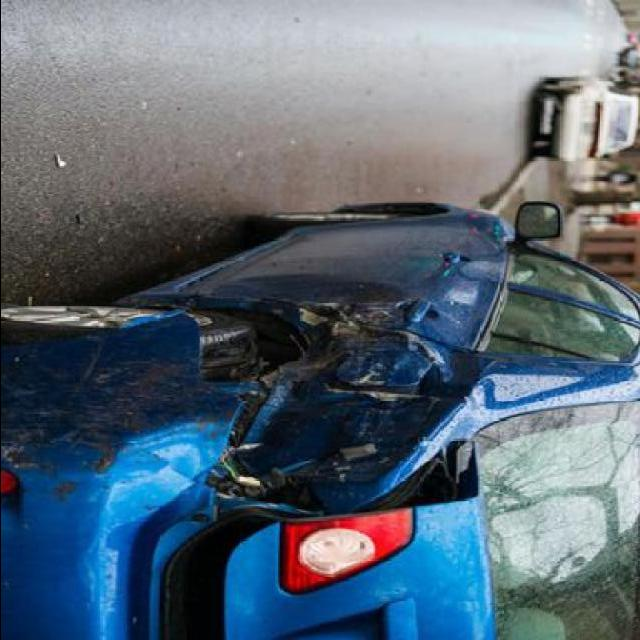quaterpanel-dent: (239, 344, 451, 503)
rear-bumper-dent: (70, 316, 280, 536)
